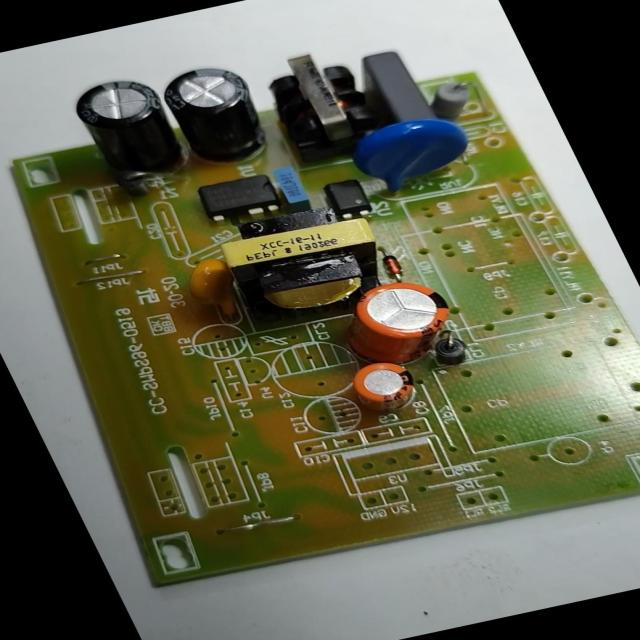Cap1: (325, 269, 472, 369)
Cap2: (339, 354, 432, 424)
Cap3: (149, 54, 286, 174)
Cap4: (59, 67, 196, 187)
MOSFET: (190, 168, 286, 228)
Mov: (335, 107, 489, 203)
Resistor: (418, 75, 484, 120)
Transformer: (199, 209, 410, 339), (251, 42, 391, 158)
